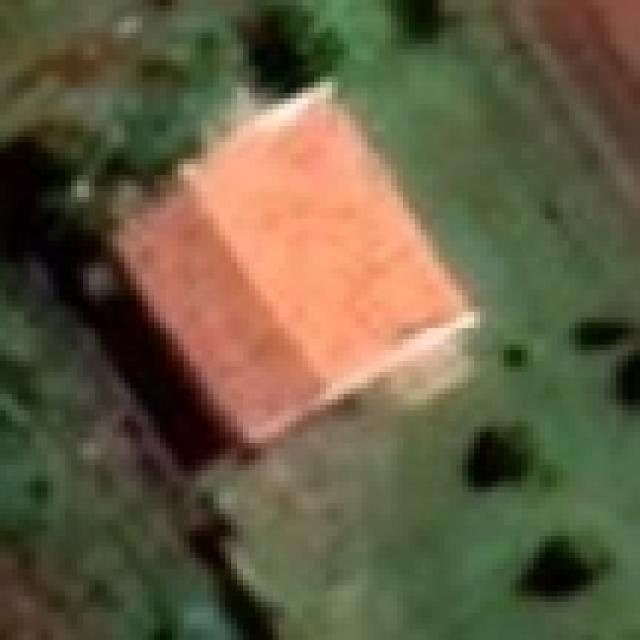Batiment: (116, 92, 469, 444)
